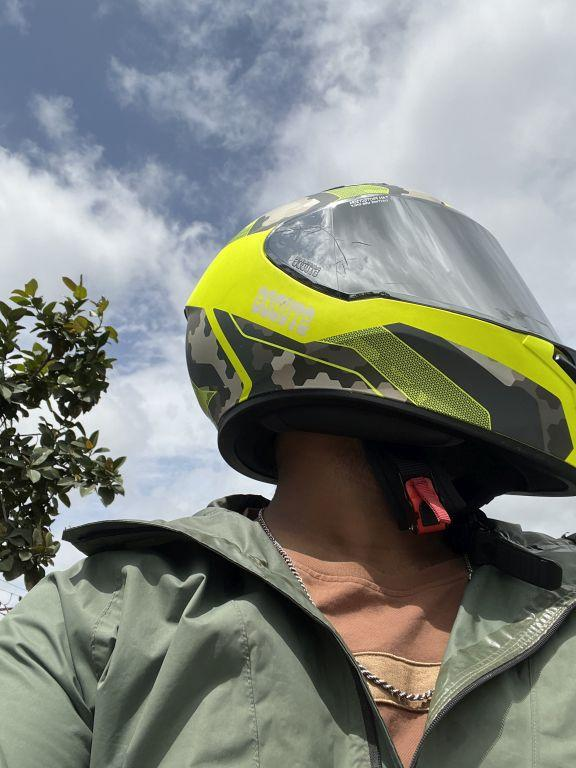helmet: (160, 169, 576, 530)
